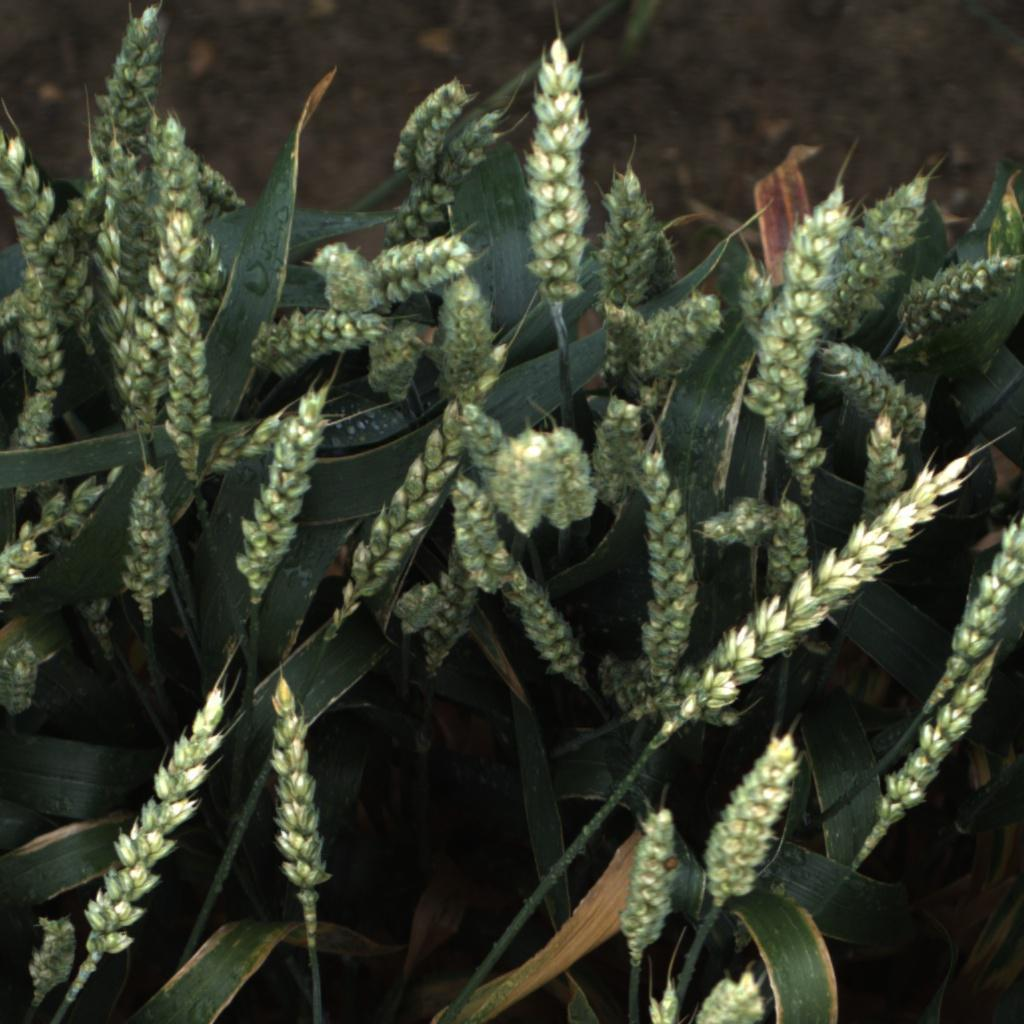0-0: (701, 448, 976, 722), (323, 342, 515, 636), (61, 676, 233, 972), (727, 175, 854, 423), (856, 654, 1002, 838), (0, 120, 103, 359), (226, 385, 332, 604), (85, 153, 158, 432), (115, 211, 205, 433), (700, 729, 808, 906), (264, 663, 337, 908), (527, 29, 593, 296), (79, 1, 176, 179), (832, 156, 933, 326), (0, 463, 110, 607), (38, 479, 125, 660), (633, 444, 706, 659), (394, 112, 513, 239), (605, 799, 688, 966), (944, 493, 1024, 664), (596, 648, 734, 735), (99, 138, 161, 330), (237, 299, 389, 376), (817, 327, 925, 435), (160, 289, 216, 482), (587, 166, 659, 309), (116, 456, 181, 612), (445, 468, 521, 591), (509, 563, 582, 690), (379, 80, 476, 175), (905, 247, 1021, 323), (579, 391, 652, 508), (365, 226, 477, 302), (487, 423, 558, 538), (641, 291, 727, 384), (533, 411, 597, 530), (438, 269, 495, 402), (12, 269, 72, 395), (4, 369, 59, 501), (356, 318, 433, 411), (420, 569, 481, 678), (857, 403, 905, 541), (156, 113, 212, 229), (759, 491, 824, 588), (18, 912, 87, 1003), (692, 490, 780, 558), (581, 297, 645, 384), (769, 398, 829, 489), (459, 402, 515, 497), (211, 410, 281, 479), (724, 254, 777, 341), (324, 254, 393, 320), (393, 572, 448, 641), (692, 974, 765, 1024), (188, 226, 229, 315), (639, 217, 681, 301), (195, 159, 248, 217), (0, 641, 40, 716), (0, 285, 36, 363), (309, 239, 364, 282), (623, 369, 673, 415), (639, 979, 681, 1024)
